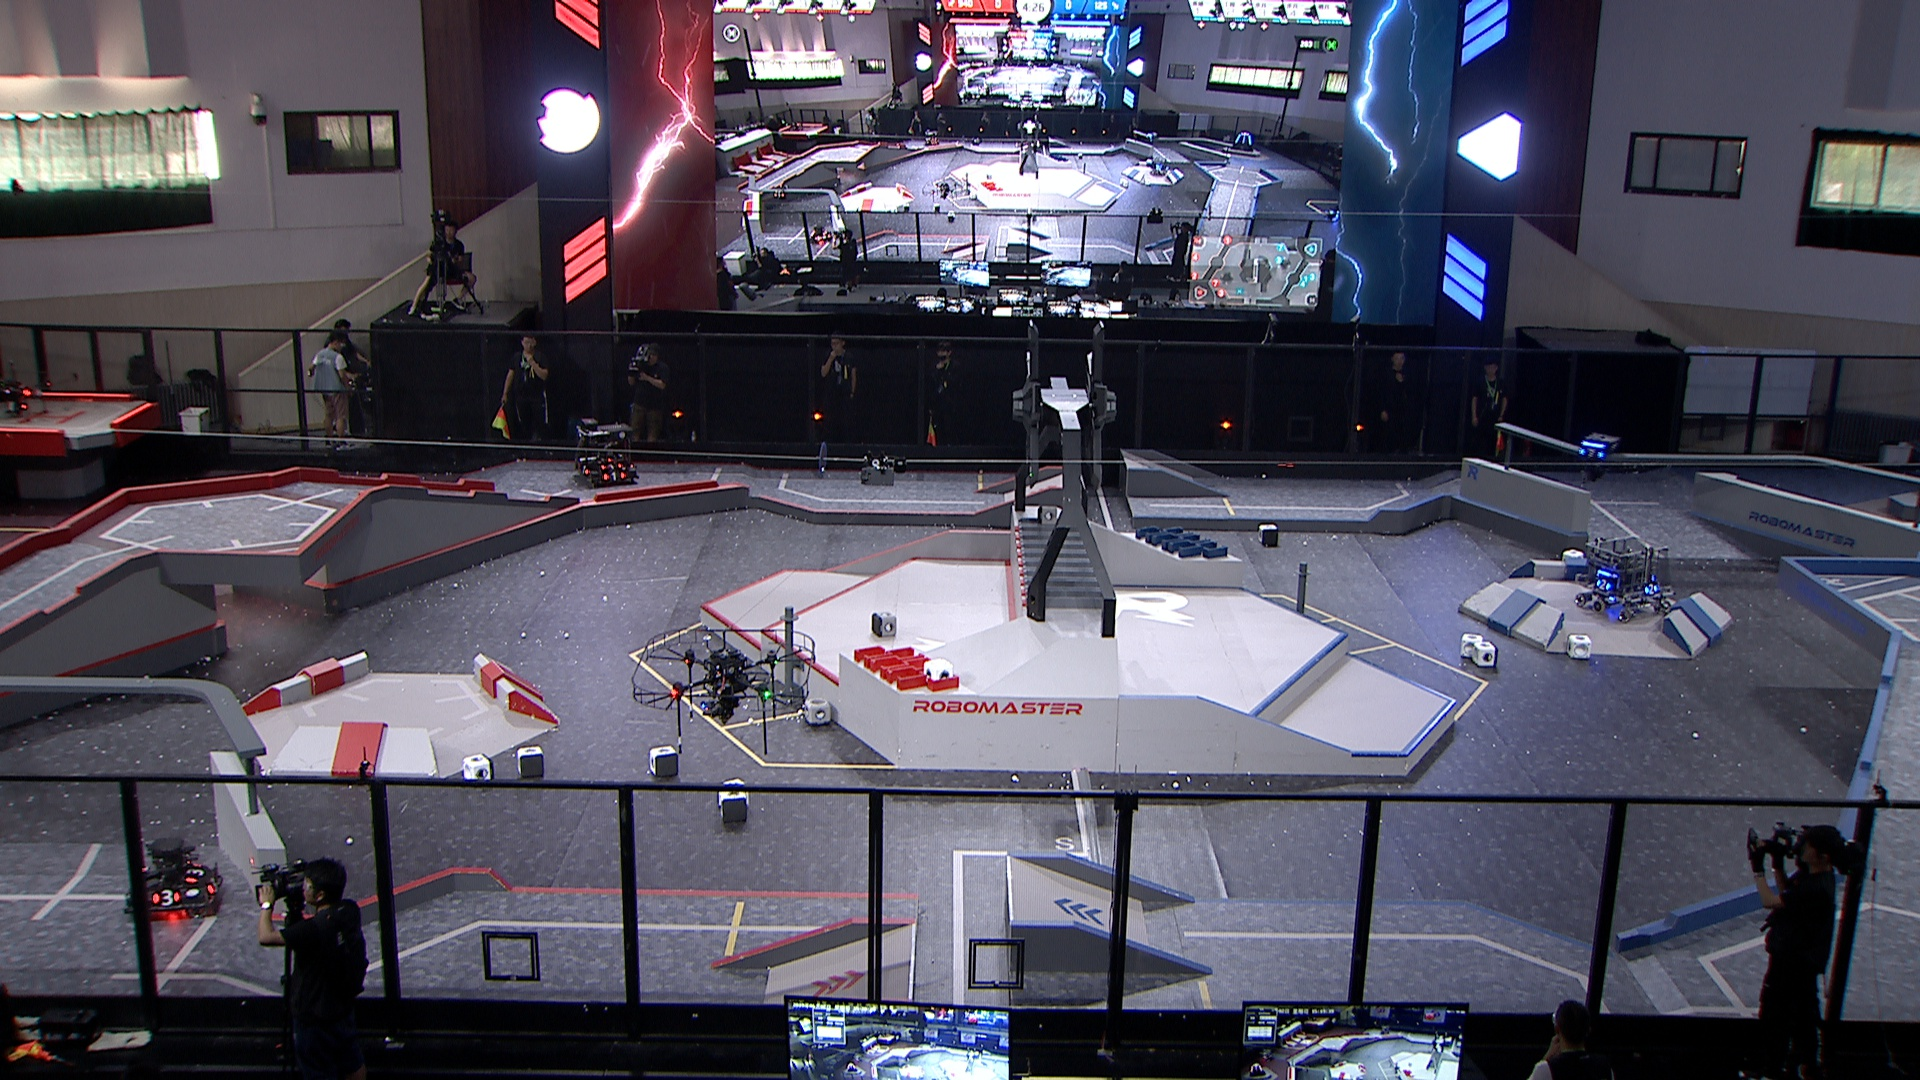armor: (152, 887, 181, 907), (183, 864, 206, 885), (1578, 447, 1604, 462), (600, 471, 628, 483), (206, 877, 223, 895), (1640, 583, 1660, 597), (1596, 578, 1611, 593), (600, 462, 622, 472), (579, 463, 591, 477)
car: (1576, 535, 1676, 624), (123, 839, 225, 920), (574, 417, 640, 488)
ignore: (1233, 131, 1254, 152), (811, 223, 832, 244), (1149, 158, 1168, 175), (923, 129, 942, 146), (771, 183, 789, 200), (1324, 204, 1340, 223), (1145, 131, 1160, 142)
watcher: (1578, 433, 1621, 481)
